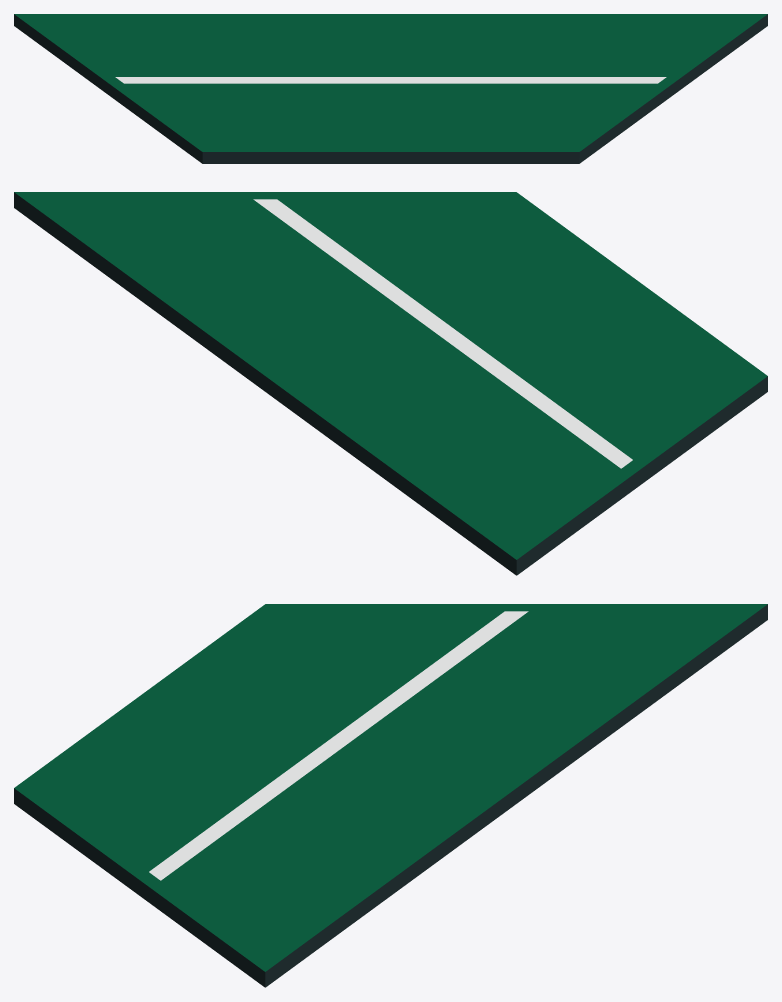
The model's file is right1.fbx.
3 views of the same model, one above another, from view 1: azimuth 30°, elevation 25°; view 2: azimuth 150°, elevation 25°; view 3: azimuth 270°, elevation 25° (orthographic). The views are drawn at different scales.
Visible parts, largest first — view 1: right1; view 2: right1; view 3: right1.
Boxes of the visible parts, x1,y1,x2,y2 form: right1: (14,14,767,163); right1: (14,192,767,575); right1: (14,604,767,987).
Size of the model in its own units: 50.01 by 1 by 43.31.
1 material, 1 textured.
